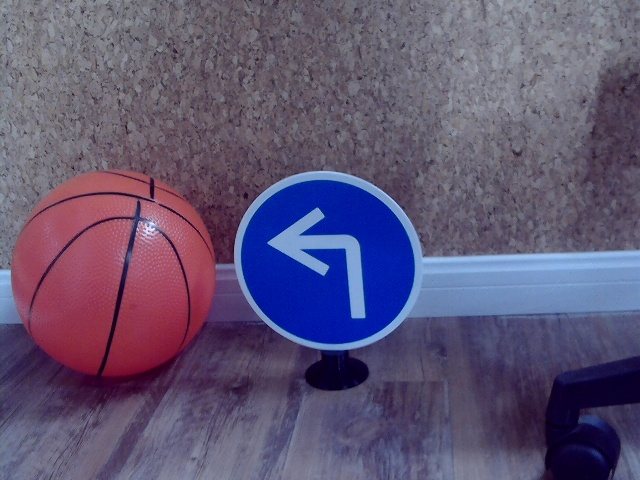turn_left: (265, 208, 378, 325)
